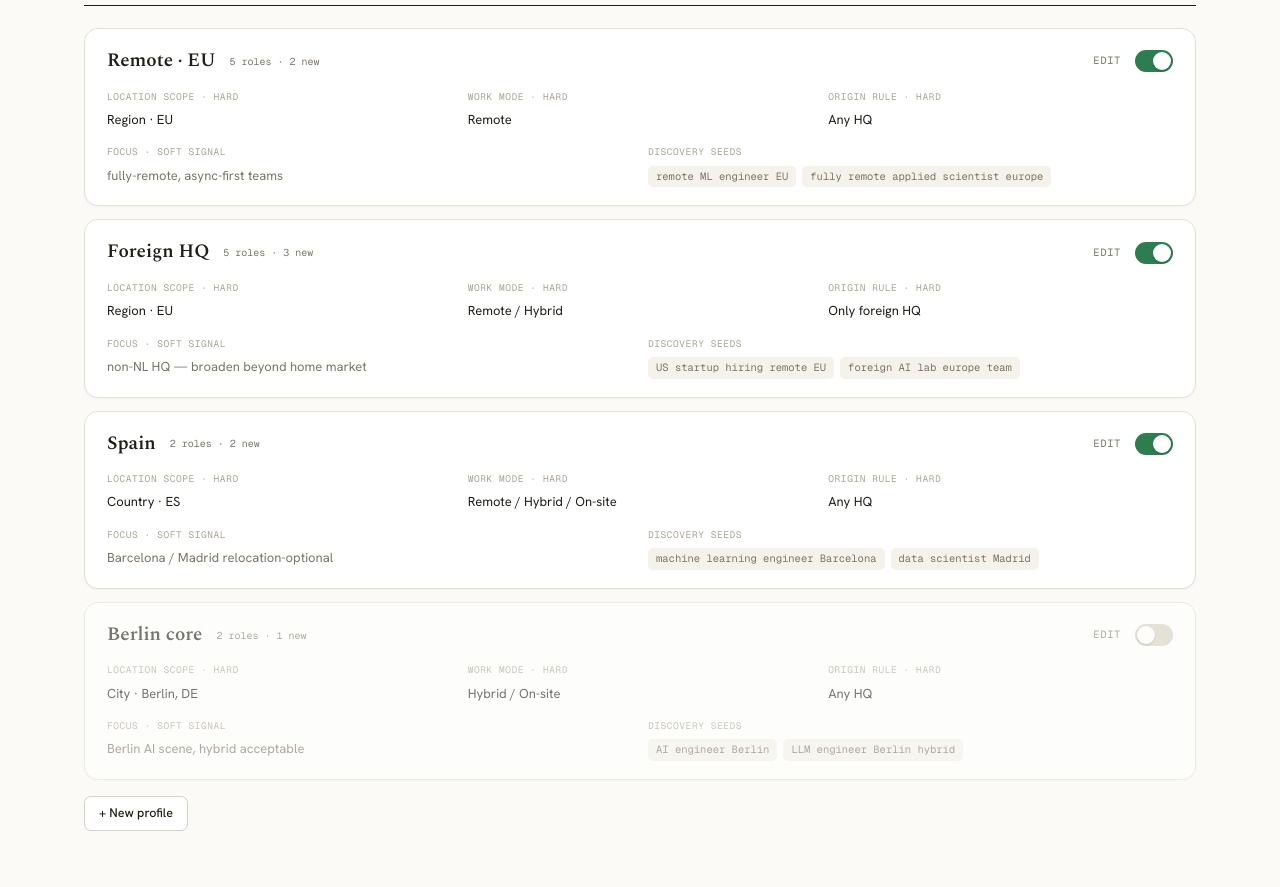
it: ProfilesView › + New profile then Save creates via POST and shows the new card
(page scrolled)
Click the button "+ New profile": (136, 813) 84,796 -> 188,831
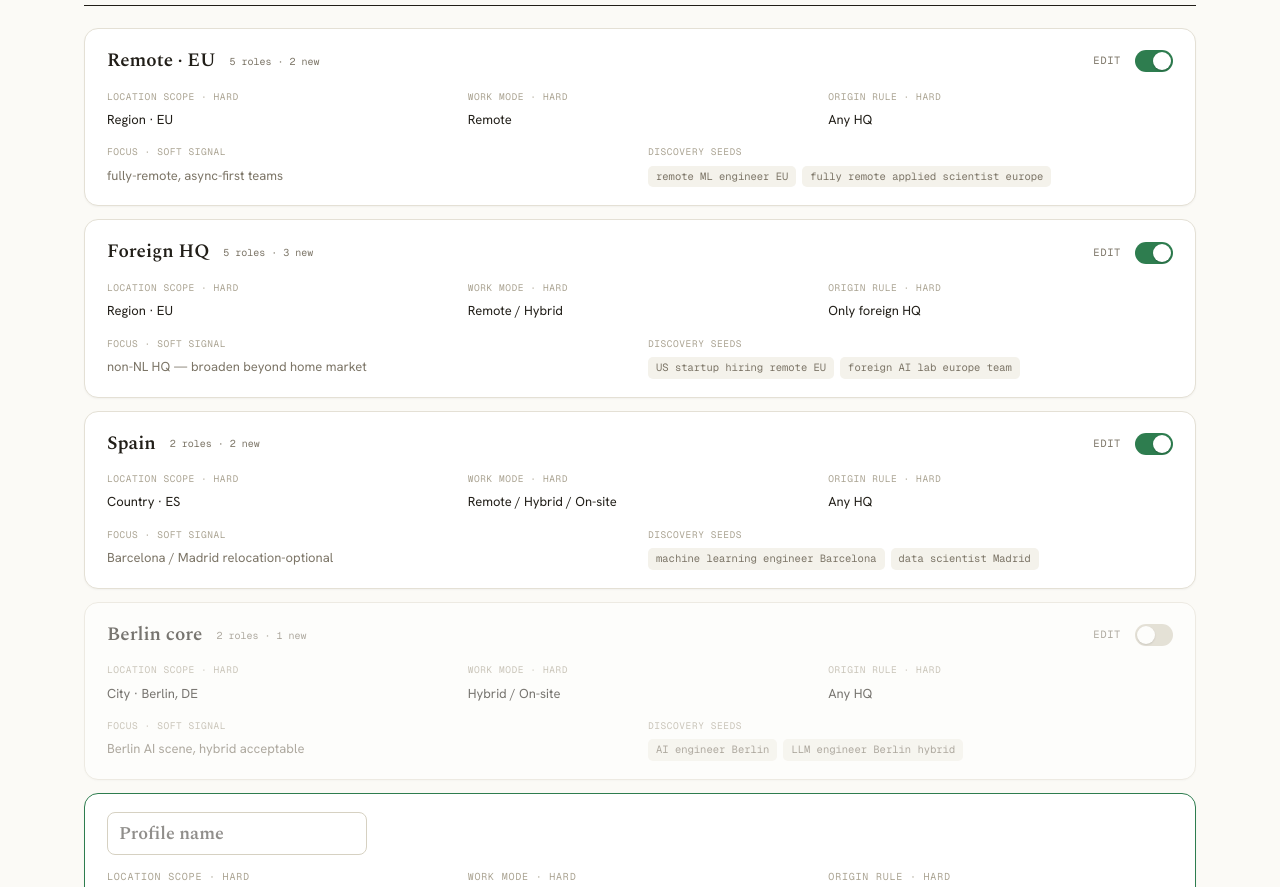
In the field labelled "Profile name": (237, 834) 107,812 -> 367,855, type "Amsterdam"
(page scrolled)
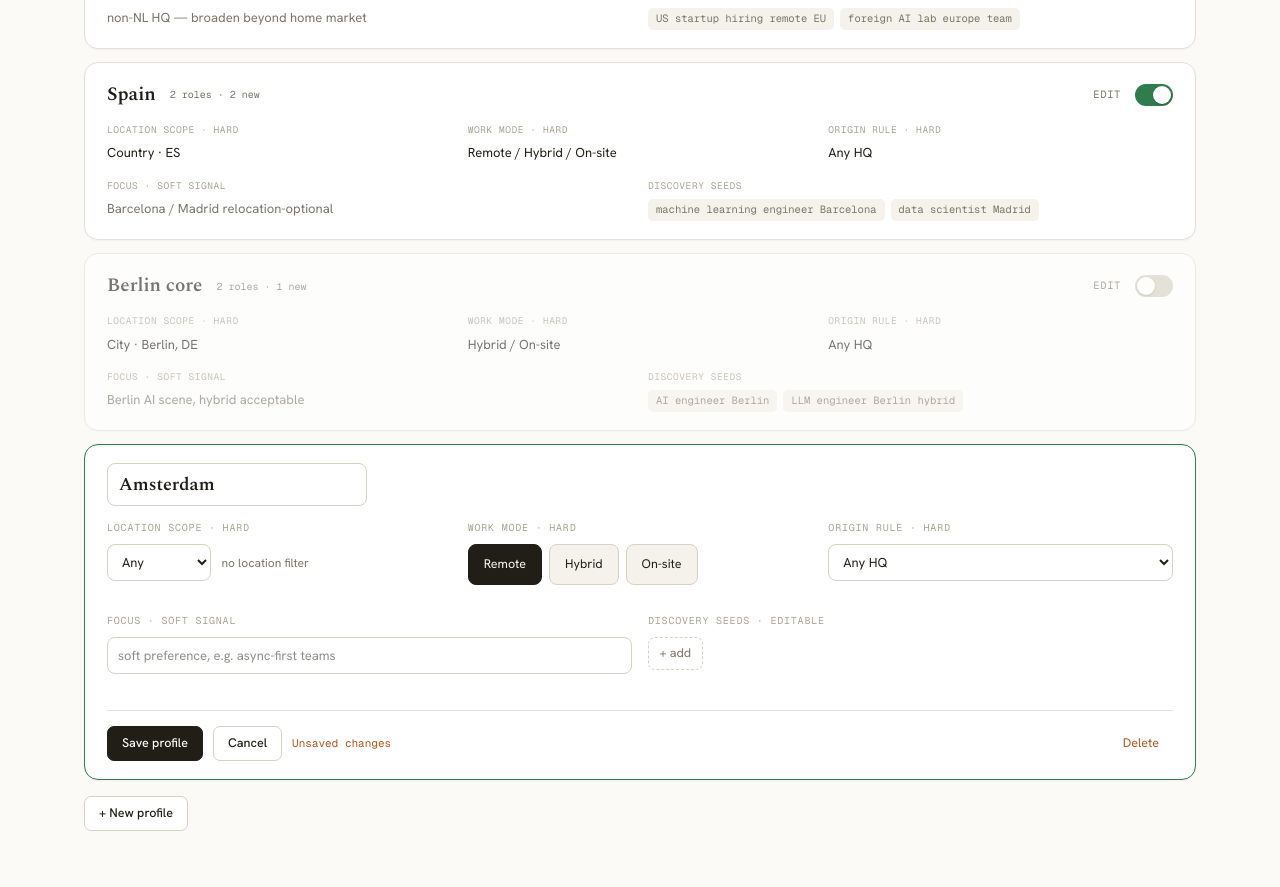
Click the button "Save profile": (155, 744) 107,726 -> 203,761
(page scrolled)
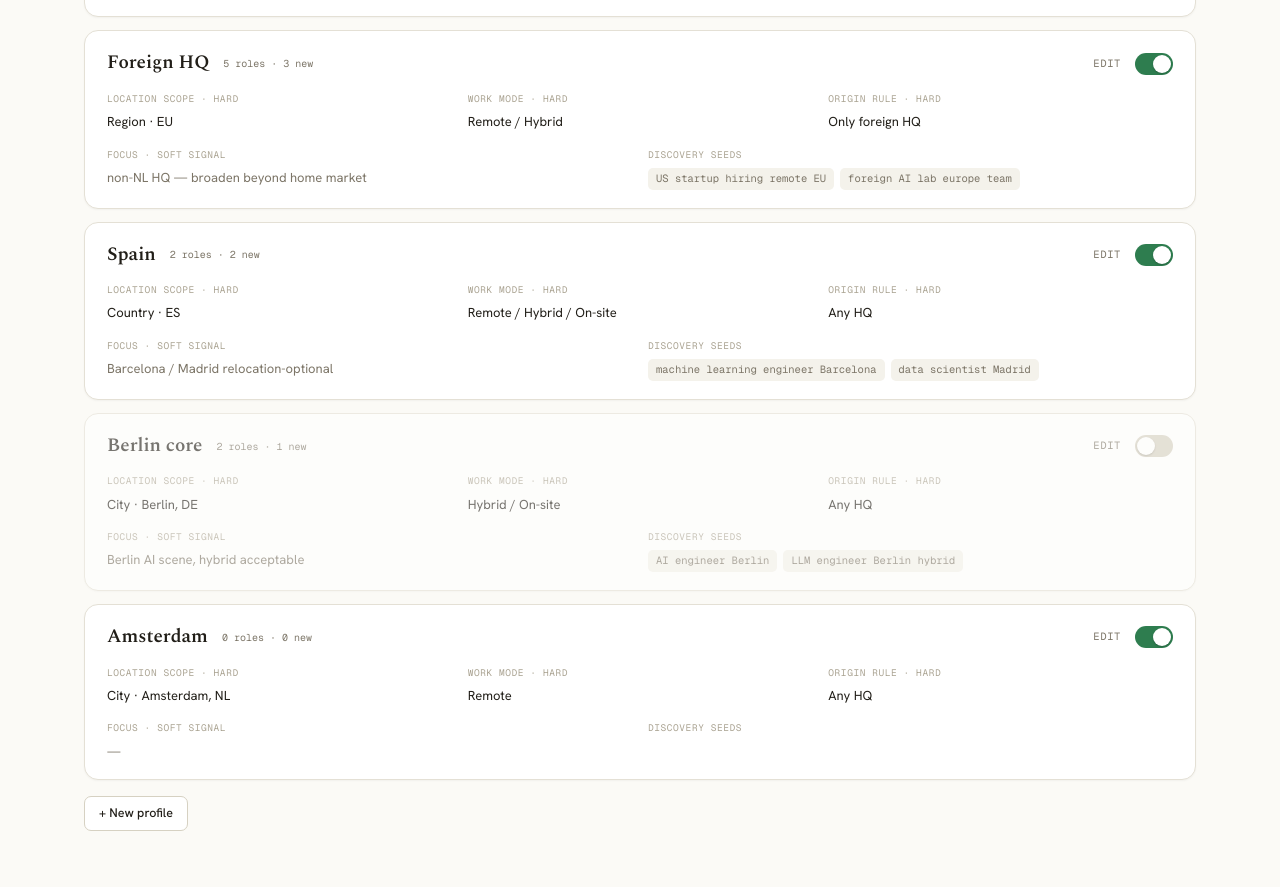
Check: the text "Amsterdam" is shown, box 107,623 -> 208,652
